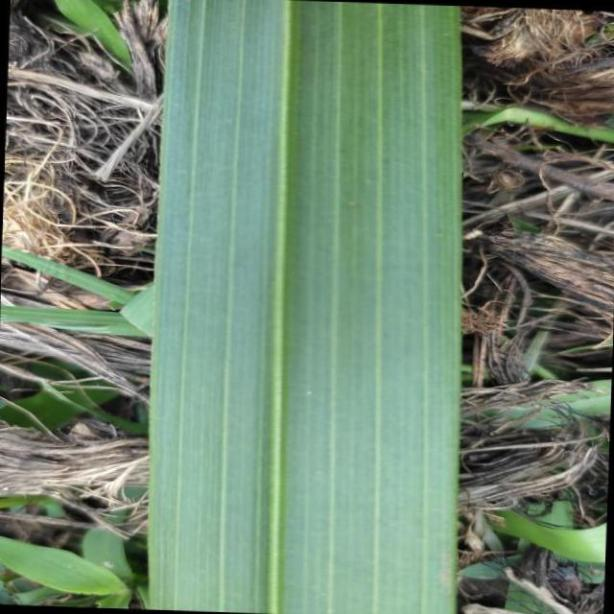Healthy: (146, 0, 460, 614)
